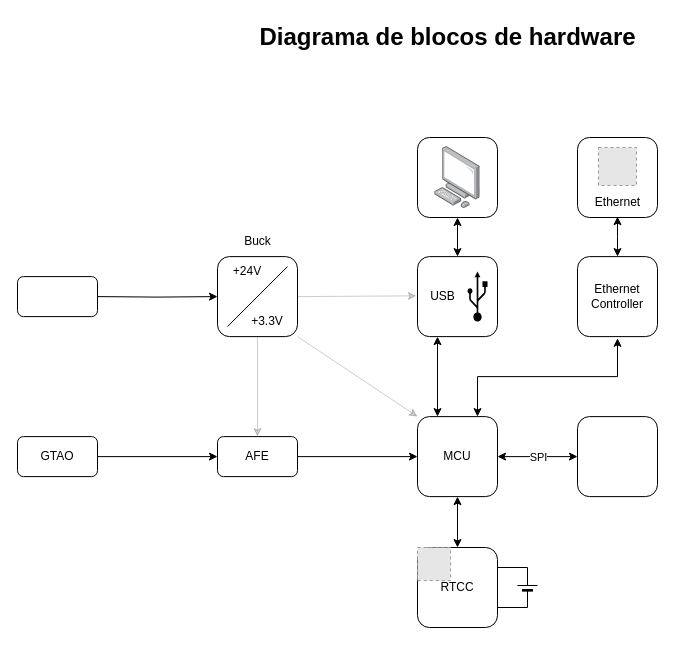
This 675x645 diagram has some shape labels left out. Grey dashed boxes stand in for pictures. Each missing label, with the centre of its shape:
"+24 VDC" goes at (x=57, y=296).
"Flash Memory" goes at (x=617, y=456).
"PC" goes at (x=457, y=177).
